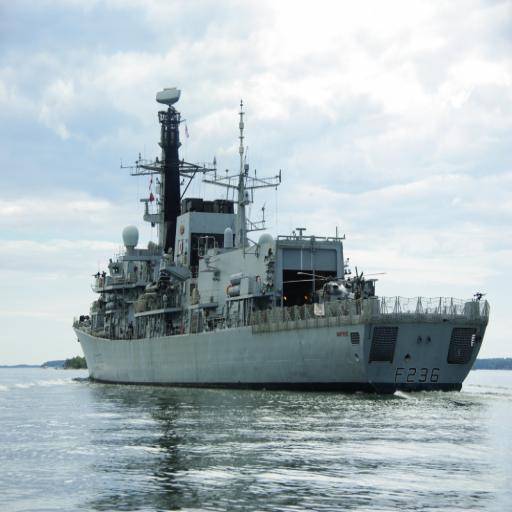Fragata: (70, 81, 496, 395)
